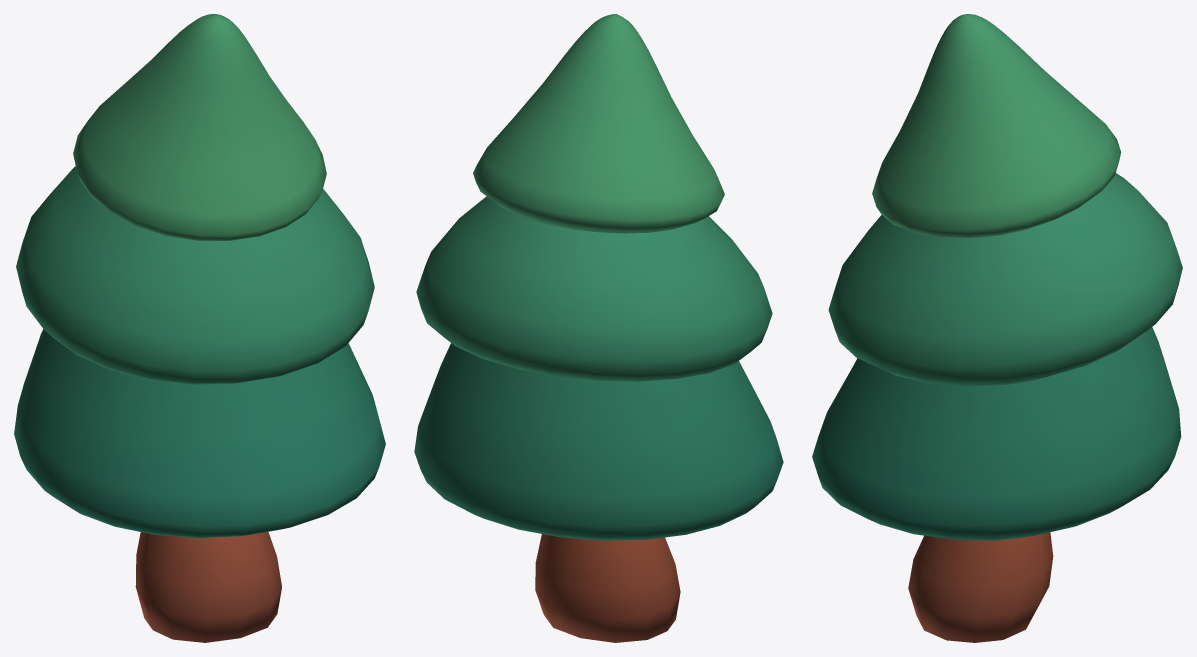
The model's file is PineSmall.gltf.
The picture shows the model from 3 angles, left to right: view 1: azimuth 30°, elevation 25°; view 2: azimuth 150°, elevation 25°; view 3: azimuth 270°, elevation 25°; orthographic projection.
Visible parts, largest first — view 1: PineSmall; view 2: PineSmall; view 3: PineSmall.
Part boxes in pixels (box(x1,y1,x2,y2)): PineSmall: box(14, 14, 385, 642); PineSmall: box(414, 14, 783, 642); PineSmall: box(812, 14, 1182, 642).
Size of the model in its own units: 1.55 by 2.77 by 1.55.
1 material, 1 textured.
